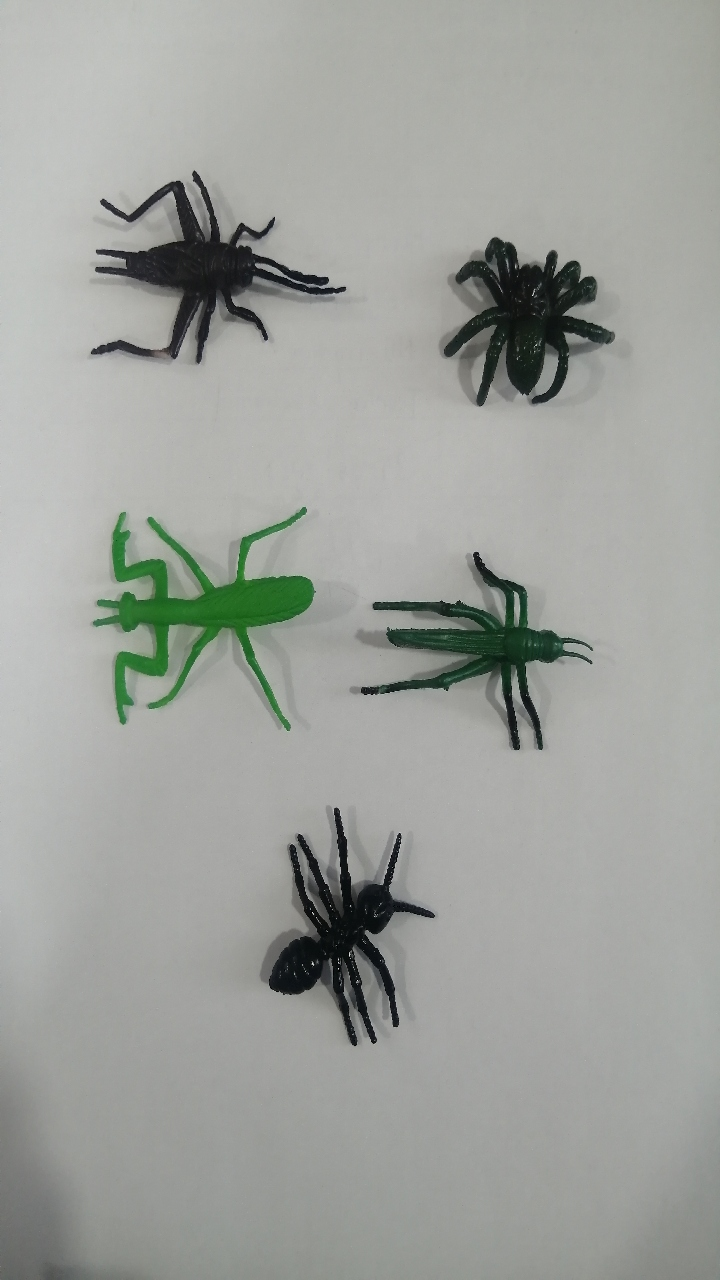intruso: (48, 471, 351, 757), (43, 145, 368, 395), (335, 508, 603, 780), (237, 783, 468, 1097), (403, 199, 638, 439)
